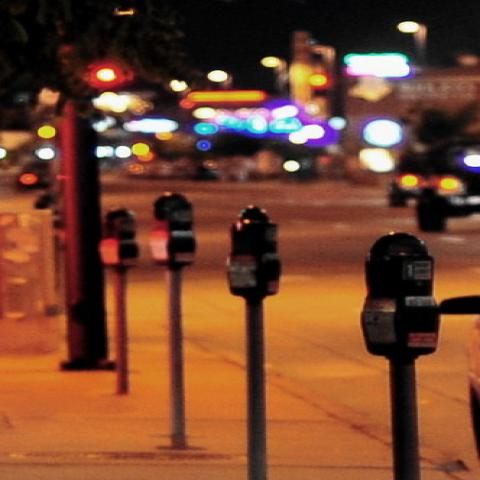car: (417, 142, 480, 233), (387, 151, 436, 207), (12, 157, 58, 191)
